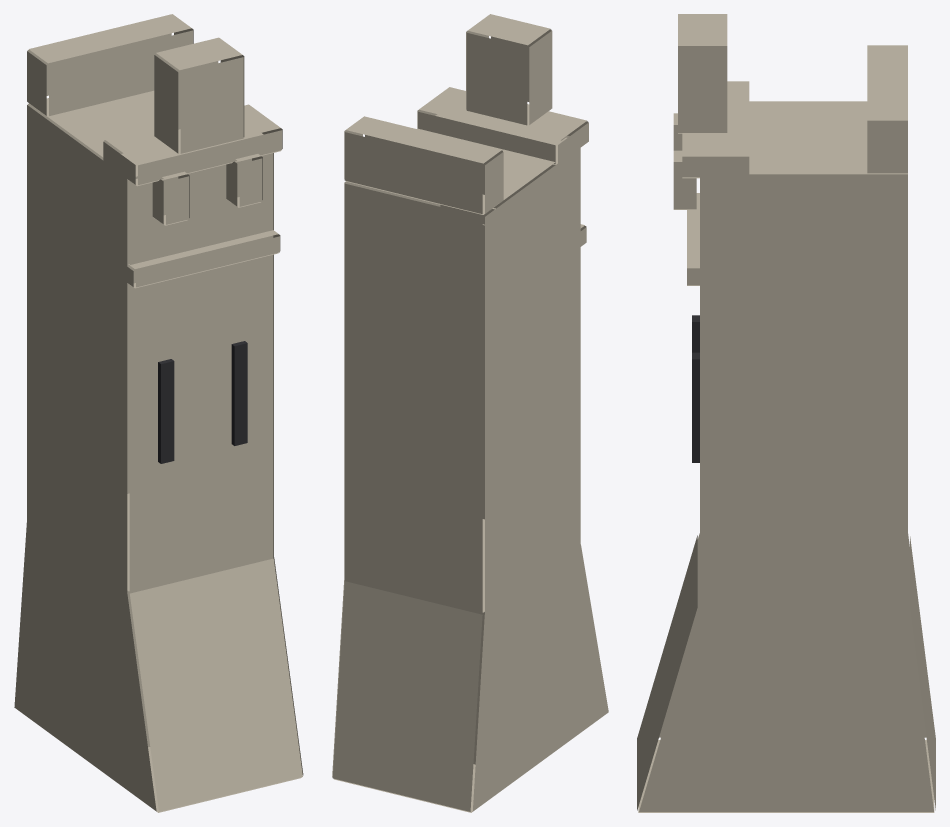
The model's file is castle-wall-short-lod1.glb.
3 renders of one model, left to right at view 1: azimuth 30°, elevation 25°; view 2: azimuth 150°, elevation 25°; view 3: azimuth 270°, elevation 25°, orthographic. The views are drawn at different scales.
Parts seen in each view (by area): view 1: castle-wall-short; view 2: castle-wall-short; view 3: castle-wall-short.
Part boxes in pixels (bbox=[...]): castle-wall-short: bbox=[14, 14, 303, 812]; castle-wall-short: bbox=[332, 14, 608, 812]; castle-wall-short: bbox=[637, 14, 935, 812].
Bounding box in the file's own units: 2 × 9.35 × 3.39.
